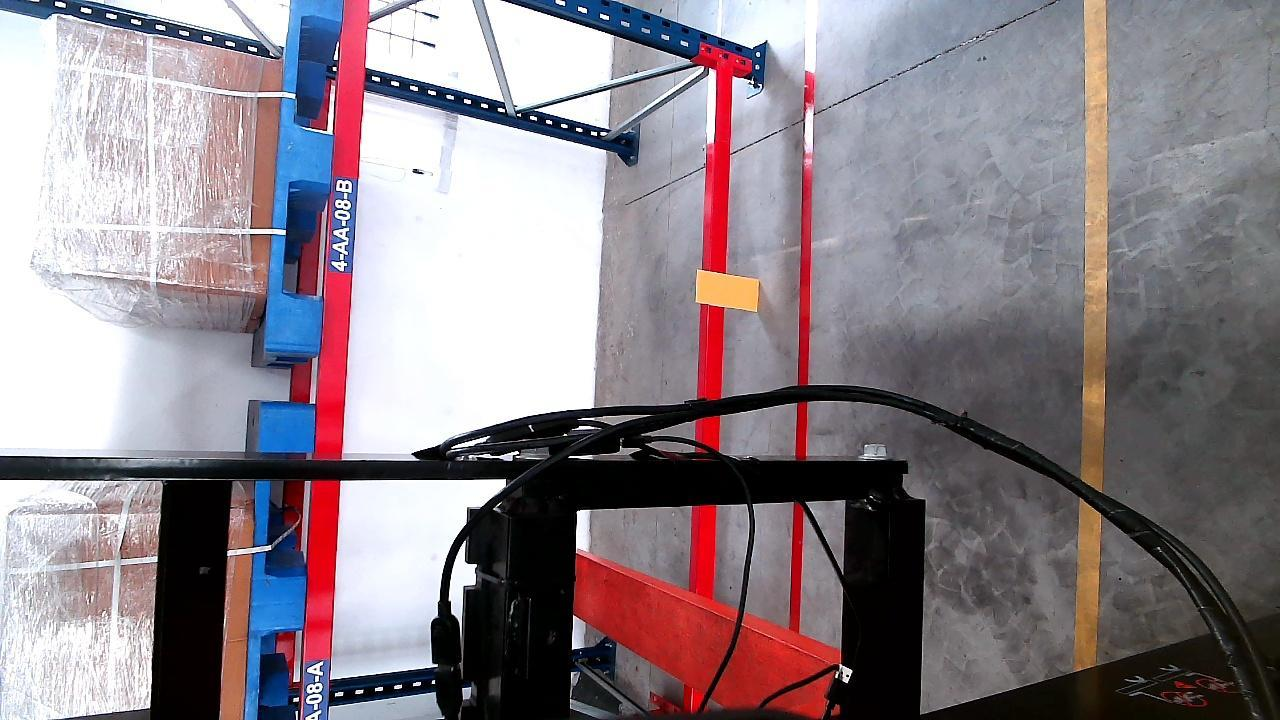red_line: (792, 0, 815, 629)
yellow_line: (1078, 0, 1107, 672)
